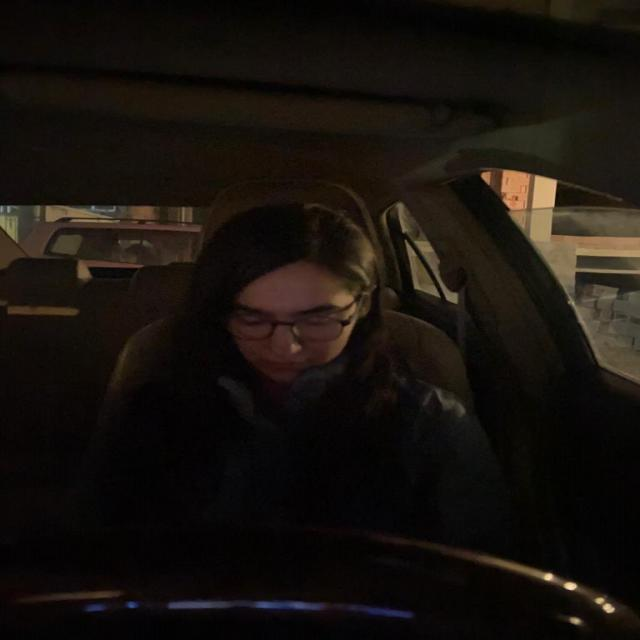drowsy: (200, 216, 376, 388)
